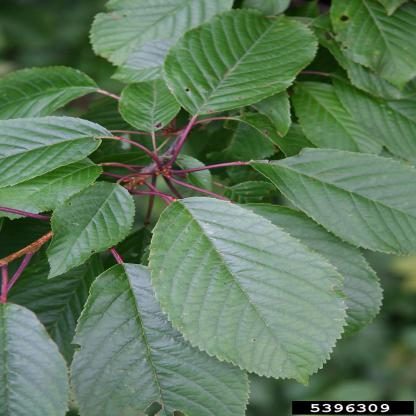cherry leaf: (141, 189, 369, 381), (68, 259, 259, 416), (148, 5, 325, 131), (251, 143, 415, 253), (1, 101, 123, 191), (38, 178, 137, 285)
